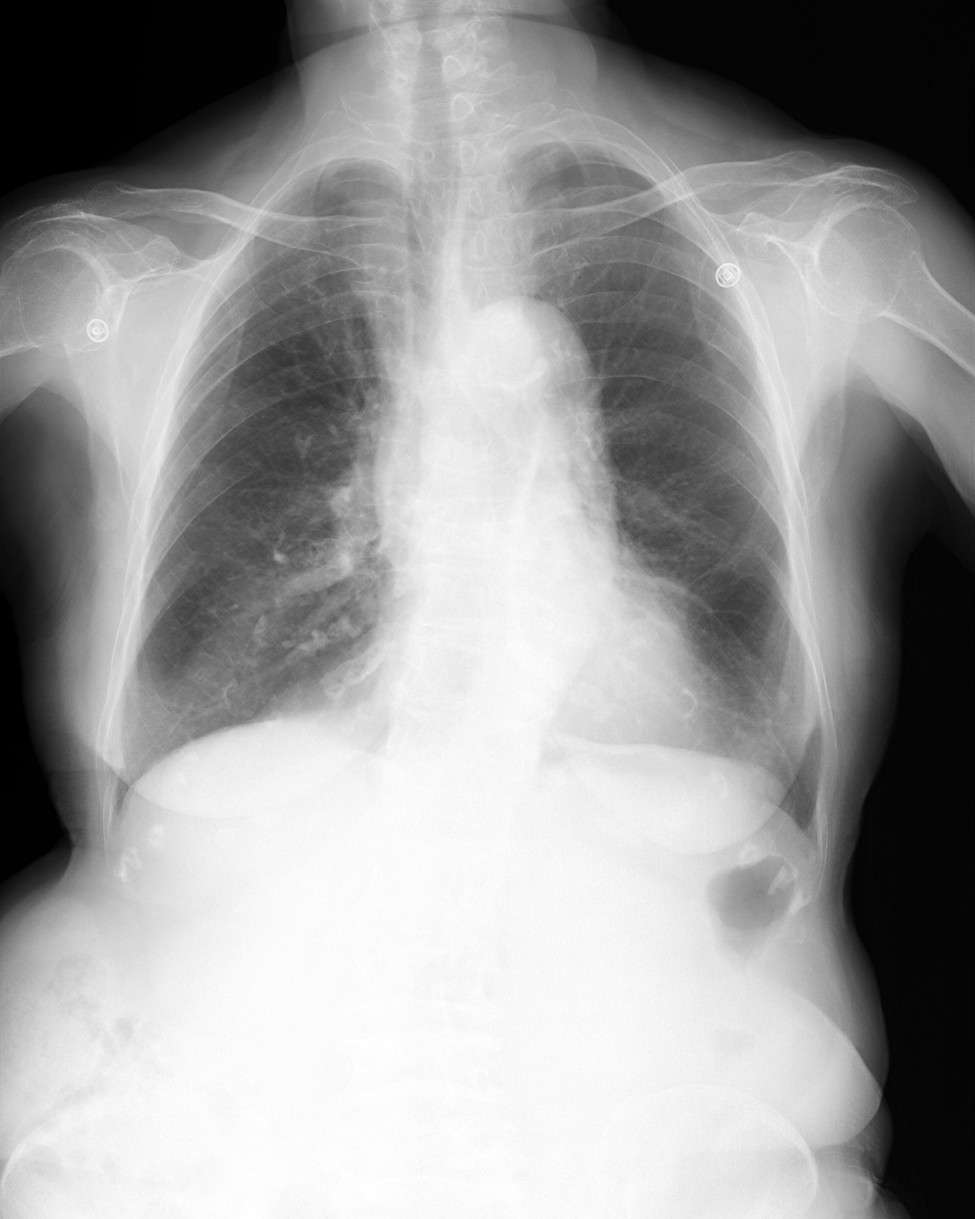Aortic enlargement: (465, 298, 616, 466)
